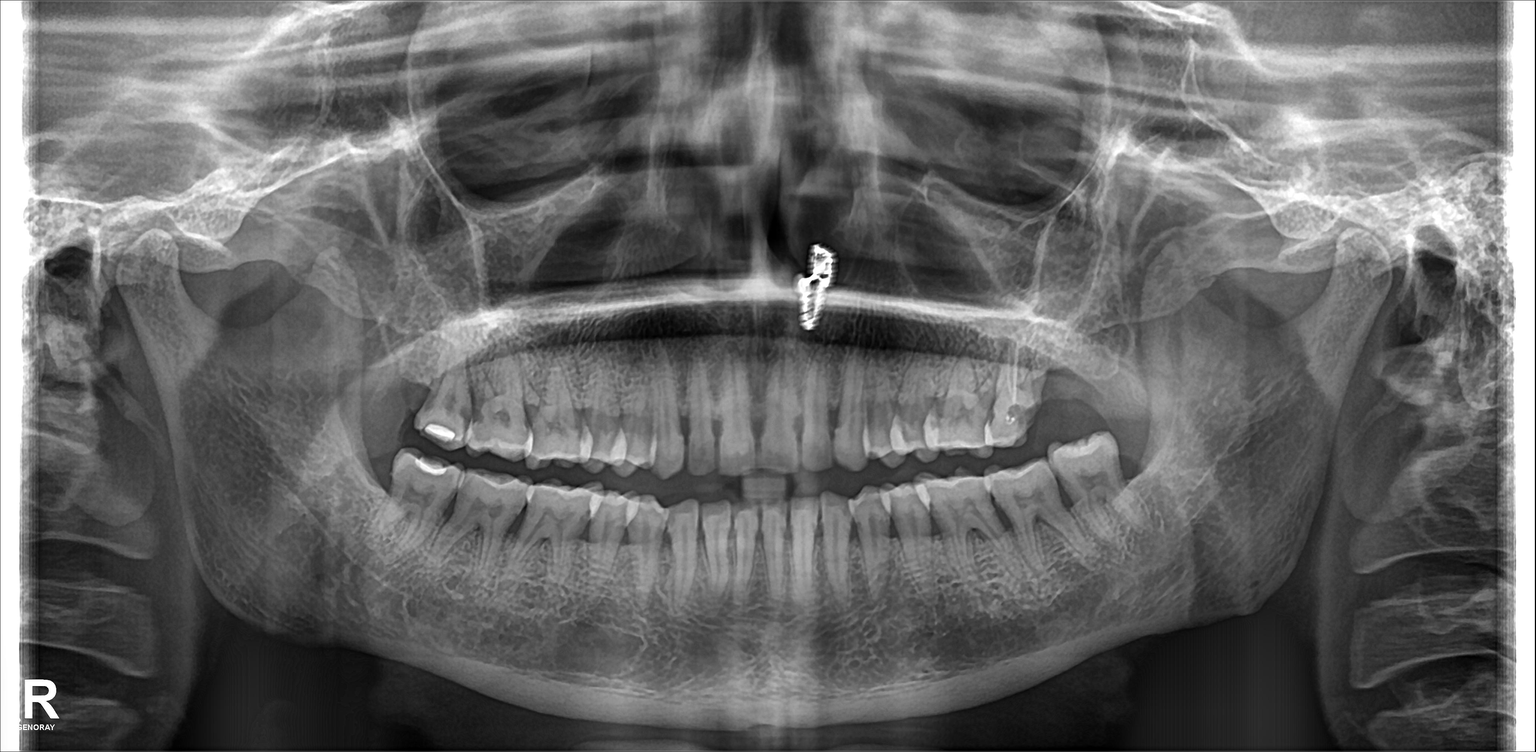Endodontically Treated Tooth: (991, 352, 1043, 445)
Missing Tooth: (387, 333, 426, 432), (1093, 352, 1134, 429), (1045, 354, 1086, 429), (1119, 441, 1161, 509)
